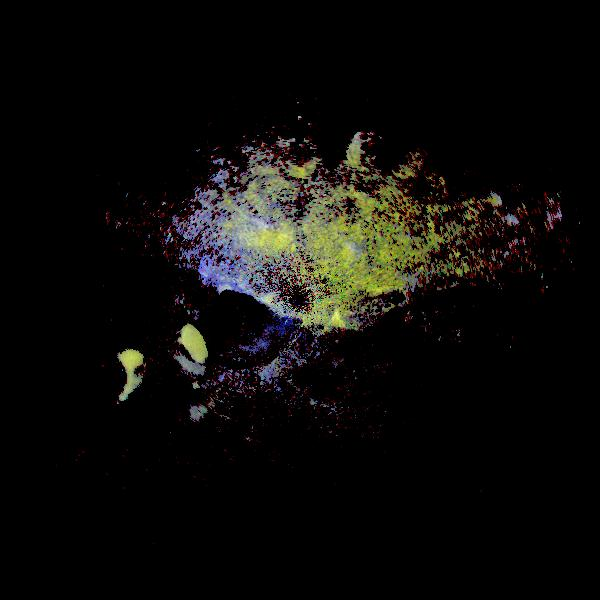roost: (68, 337, 146, 415), (139, 320, 211, 392), (343, 126, 394, 177), (276, 133, 324, 181)
